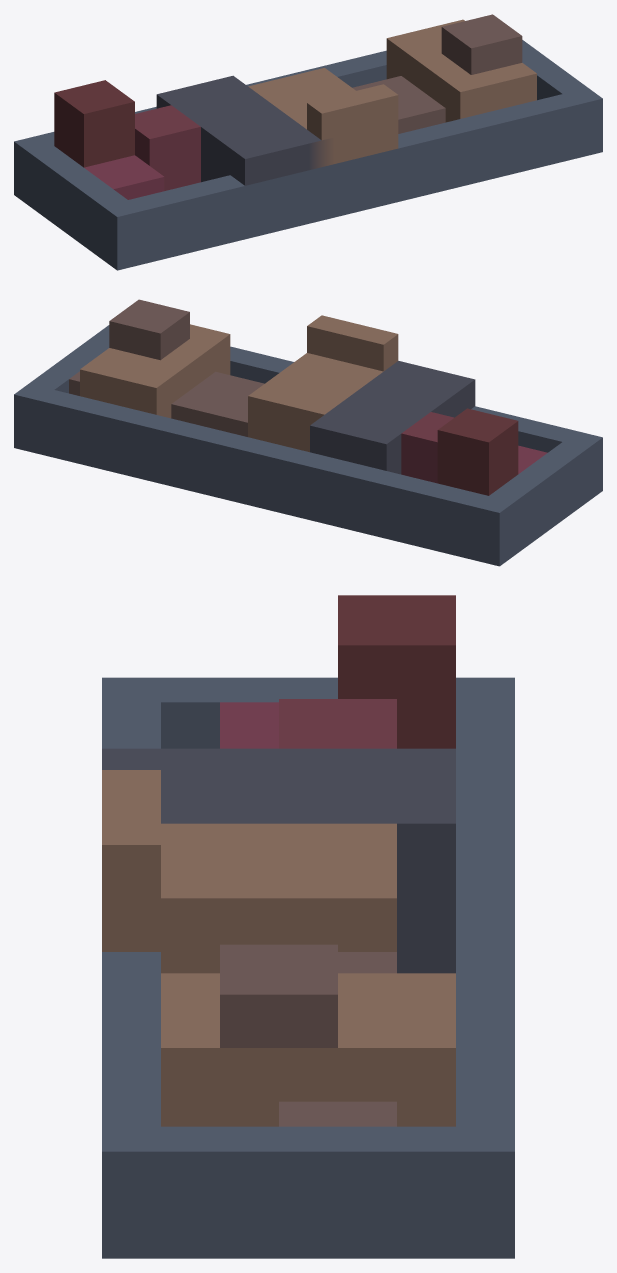
The model's file is Market_Items-3.fbx.
The picture shows the model from 3 angles, top to bottom: view 1: azimuth 30°, elevation 25°; view 2: azimuth 150°, elevation 25°; view 3: azimuth 270°, elevation 25°; orthographic projection. The views are drawn at different scales.
Visible parts, largest first — view 1: Market_Items_3; view 2: Market_Items_3; view 3: Market_Items_3.
Boxes of the visible parts, x1,y1,x2,y2 form: Market_Items_3: [14, 14, 602, 270]; Market_Items_3: [14, 299, 602, 566]; Market_Items_3: [102, 595, 514, 1258].
Bounding box in the file's own units: 190 × 40 × 70.
